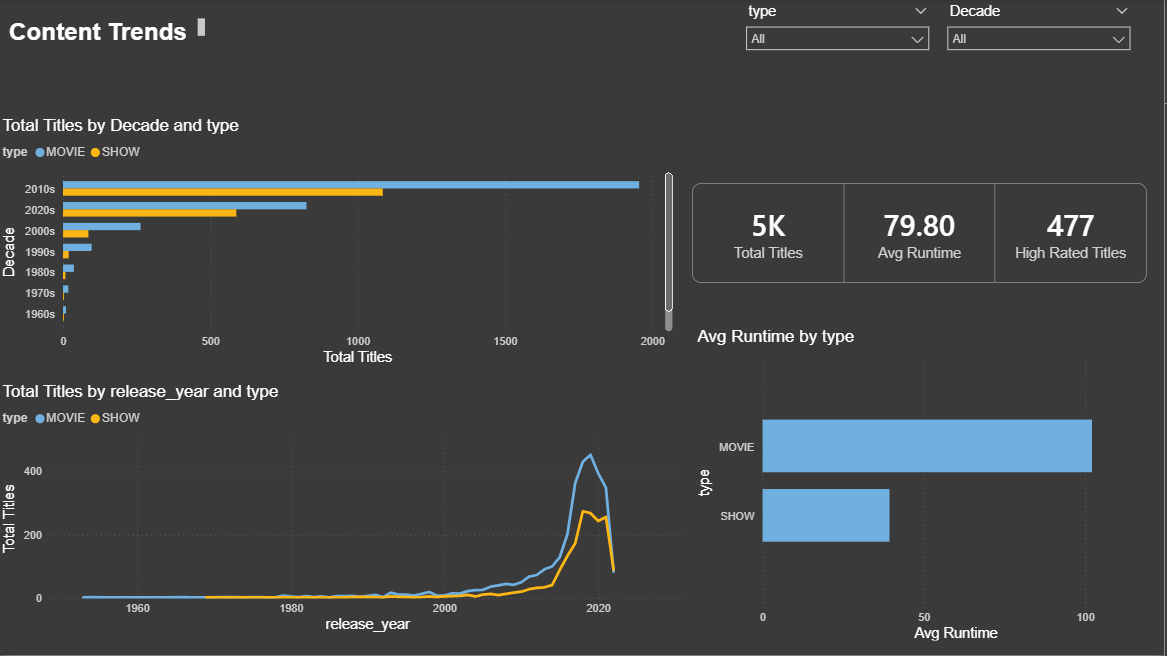

What the dashboard file says about the page in this screenshot:
{"tool":"powerbi","page":{"name":" Content Trends","canvas":[1280,720],"ordinal":2},"visuals":[{"type":"lineChart","fields":{"Category":["netflix_clean.release_year"],"Y":["netflix_clean.Total Titles"],"Series":["netflix_clean.type"]},"box":[0,419.8,762.5,279.9],"z":0},{"type":"clusteredBarChart","fields":{"Category":["netflix_clean.Decade"],"Y":["netflix_clean.Total Titles"],"Series":["netflix_clean.type"]},"box":[0,127.9,745.6,278.7],"z":1000},{"type":"clusteredBarChart","fields":{"Category":["netflix_clean.type"],"Y":["netflix_clean.Avg Runtime"]},"box":[762.5,359.5,517.6,349.9],"z":2000},{"type":"cardVisual","fields":{"Data":["netflix_clean.Total Titles","netflix_clean.Avg Runtime","netflix_clean.High Rated Titles"]},"box":[745.5,185.3,534.5,144],"z":3000},{"type":"slicer","fields":{"Values":["netflix_clean.type"]},"box":[811,0,220.9,69.8],"z":4000},{"type":"slicer","fields":{"Values":["netflix_clean.Decade"]},"box":[1032,0,220.9,69.8],"z":5000},{"type":"textbox","box":[0,17.1,232.3,34.2],"z":6000}]}

Visuals, with their boxes in screenshot pixels (x1, y1, x2, y2), scaled from the page's 1280x720 canvas onto the 1167x656 screenshot:
lineChart - netflix_clean.release_year x netflix_clean.Total Titles: (0, 382, 695, 638)
clusteredBarChart - netflix_clean.Decade x netflix_clean.Total Titles: (0, 117, 680, 370)
clusteredBarChart - netflix_clean.type x netflix_clean.Avg Runtime: (695, 328, 1166, 646)
cardVisual - netflix_clean.Total Titles x netflix_clean.Avg Runtime: (680, 169, 1166, 300)
slicer - netflix_clean.type: (739, 0, 941, 64)
slicer - netflix_clean.Decade: (941, 0, 1142, 64)
textbox: (0, 16, 212, 47)
